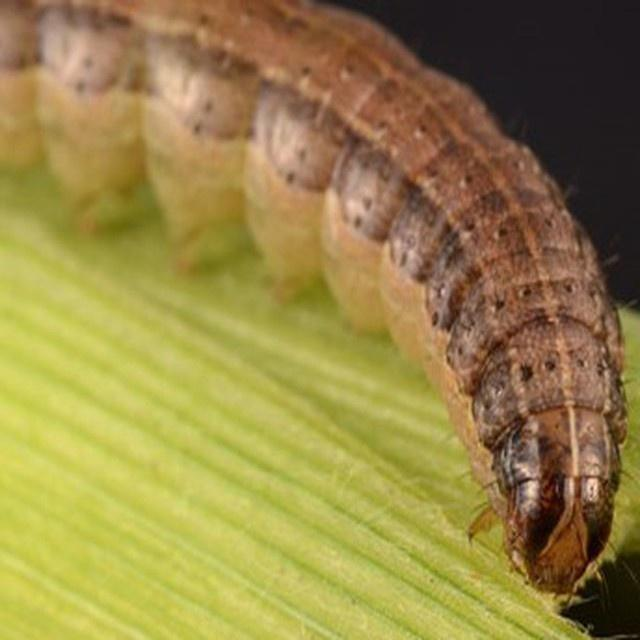gusano_cogollero: (134, 4, 616, 594)
